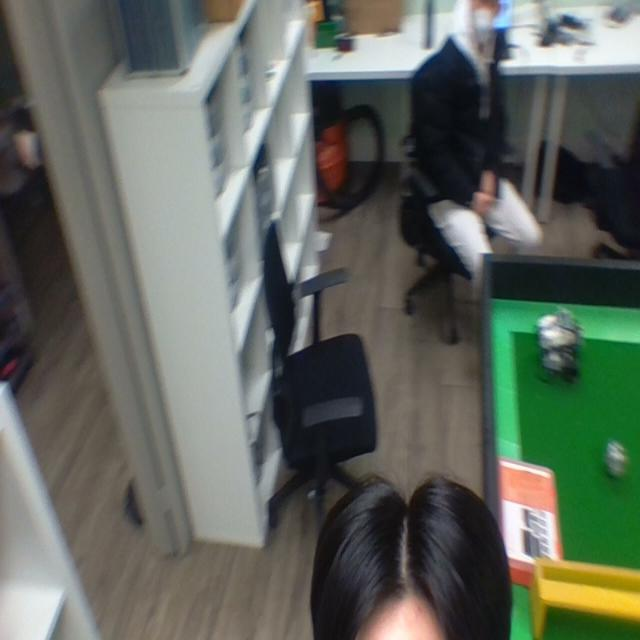black-chair: (248, 210, 393, 506)
